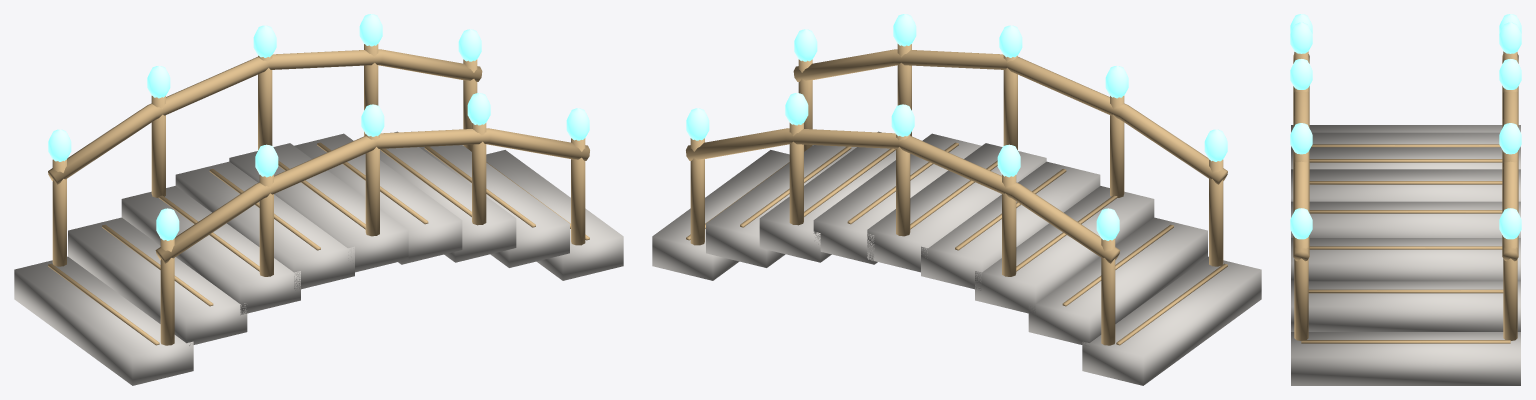
The model's file is arc_moonbridge.glb.
3 views of the same model, side by side, from view 1: azimuth 30°, elevation 25°; view 2: azimuth 150°, elevation 25°; view 3: azimuth 270°, elevation 25° (orthographic). The views are drawn at different scales.
Parts seen in each view (by area): view 1: ARC_moonbridge_deck_0, ARC_moonbridge_deck_1, ARC_moonbridge_deck_2, ARC_moonbridge_handrail_-0.66, ARC_moonbridge_handrail_0.66, ARC_moonbridge_deck_3, ARC_moonbridge_deck_4, ARC_moonbridge_deck_5, ARC_moonbridge_deck_6, ARC_moonbridge_deck_7, ARC_moonbridge_deck_8, ARC_moonbridge_railing_-0.66_0 (+24 smaller); view 2: ARC_moonbridge_deck_0, ARC_moonbridge_deck_1, ARC_moonbridge_deck_2, ARC_moonbridge_handrail_0.66, ARC_moonbridge_handrail_-0.66, ARC_moonbridge_deck_3, ARC_moonbridge_deck_4, ARC_moonbridge_deck_5, ARC_moonbridge_deck_6, ARC_moonbridge_deck_7, ARC_moonbridge_deck_8, ARC_moonbridge_railing_0.66_0 (+24 smaller); view 3: ARC_moonbridge_deck_8, ARC_moonbridge_deck_7, ARC_moonbridge_deck_6, ARC_moonbridge_deck_5, ARC_moonbridge_deck_4, ARC_moonbridge_deck_3, ARC_moonbridge_deck_2, ARC_moonbridge_handrail_0.66, ARC_moonbridge_handrail_-0.66, ARC_moonbridge_deck_1, ARC_moonbridge_railing_0.66_4, ARC_moonbridge_railing_-0.66_4 (+17 smaller).
Boxes of the visible parts, x1,y1,x2,y2 form: ARC_moonbridge_deck_0: (14, 256, 193, 385); ARC_moonbridge_deck_1: (68, 217, 247, 345); ARC_moonbridge_deck_2: (121, 186, 300, 315); ARC_moonbridge_handrail_-0.66: (155, 128, 589, 263); ARC_moonbridge_handrail_0.66: (48, 49, 482, 184); ARC_moonbridge_deck_3: (175, 161, 354, 290); ARC_moonbridge_deck_4: (229, 143, 408, 272); ARC_moonbridge_deck_5: (294, 133, 462, 264); ARC_moonbridge_deck_6: (380, 131, 516, 262); ARC_moonbridge_deck_7: (419, 145, 569, 267); ARC_moonbridge_deck_8: (486, 150, 623, 280); ARC_moonbridge_railing_-0.66_0: (160, 238, 174, 345); ARC_moonbridge_deck_0: (1082, 256, 1261, 385); ARC_moonbridge_deck_1: (1028, 217, 1207, 345); ARC_moonbridge_deck_2: (975, 186, 1154, 314); ARC_moonbridge_handrail_0.66: (686, 128, 1120, 263); ARC_moonbridge_handrail_-0.66: (793, 49, 1227, 184); ARC_moonbridge_deck_3: (921, 161, 1100, 290); ARC_moonbridge_deck_4: (867, 143, 1046, 272); ARC_moonbridge_deck_5: (813, 133, 981, 264); ARC_moonbridge_deck_6: (759, 131, 895, 262); ARC_moonbridge_deck_7: (706, 145, 856, 267); ARC_moonbridge_deck_8: (652, 150, 789, 280); ARC_moonbridge_railing_0.66_0: (1101, 238, 1115, 345); ARC_moonbridge_deck_8: (1291, 332, 1520, 385); ARC_moonbridge_deck_7: (1291, 281, 1520, 331); ARC_moonbridge_deck_6: (1291, 238, 1520, 281); ARC_moonbridge_deck_5: (1291, 201, 1520, 237); ARC_moonbridge_deck_4: (1291, 169, 1520, 201); ARC_moonbridge_deck_3: (1291, 147, 1520, 169); ARC_moonbridge_deck_2: (1291, 132, 1520, 147); ARC_moonbridge_handrail_0.66: (1502, 54, 1518, 261); ARC_moonbridge_handrail_-0.66: (1293, 54, 1309, 261); ARC_moonbridge_deck_1: (1291, 125, 1520, 132); ARC_moonbridge_railing_0.66_4: (1503, 237, 1517, 340); ARC_moonbridge_railing_-0.66_4: (1294, 237, 1308, 340).
Size of the model in its own units: 3.47 by 1.47 by 1.46.
